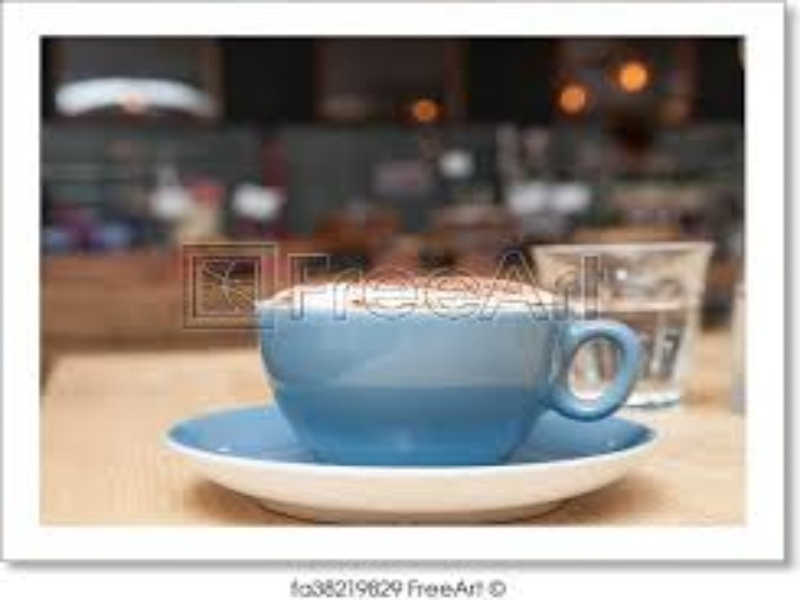cup: (253, 254, 641, 491)
